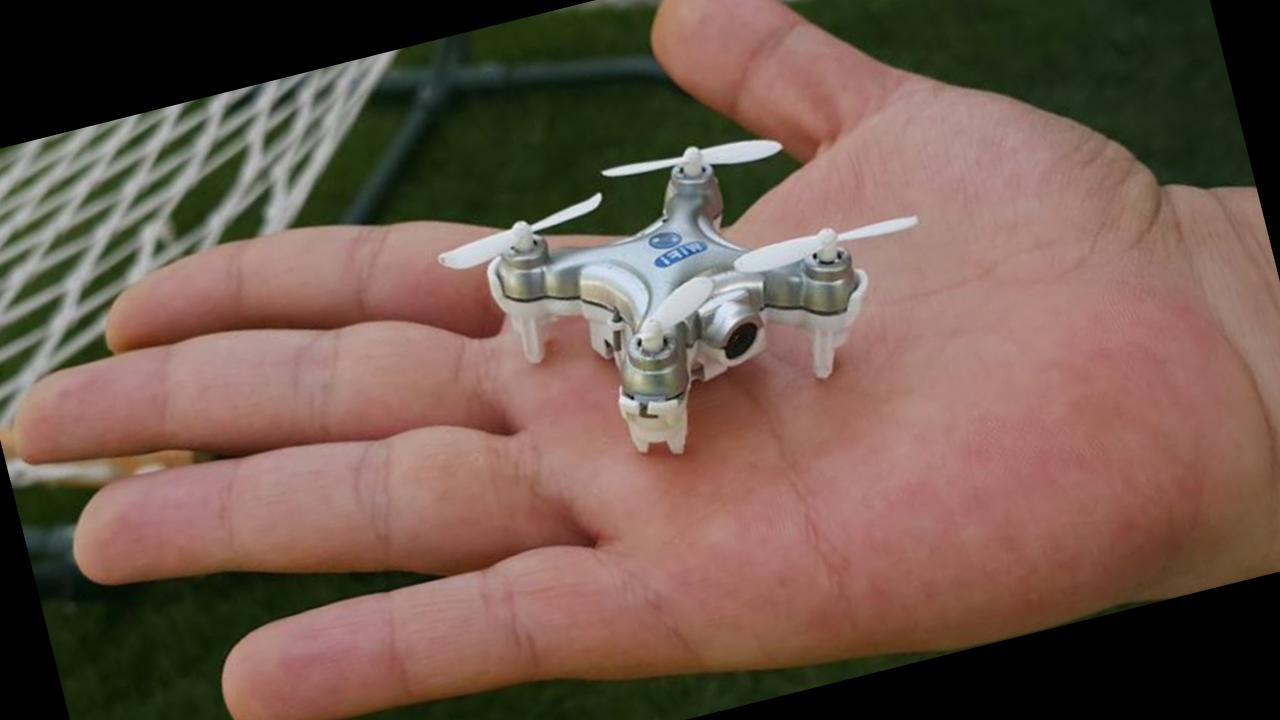drone: (398, 71, 966, 485)
